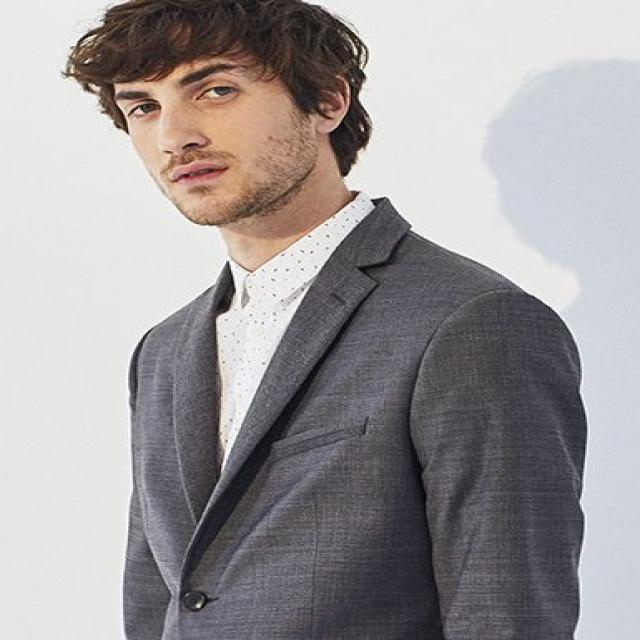human: (50, 0, 597, 637)
